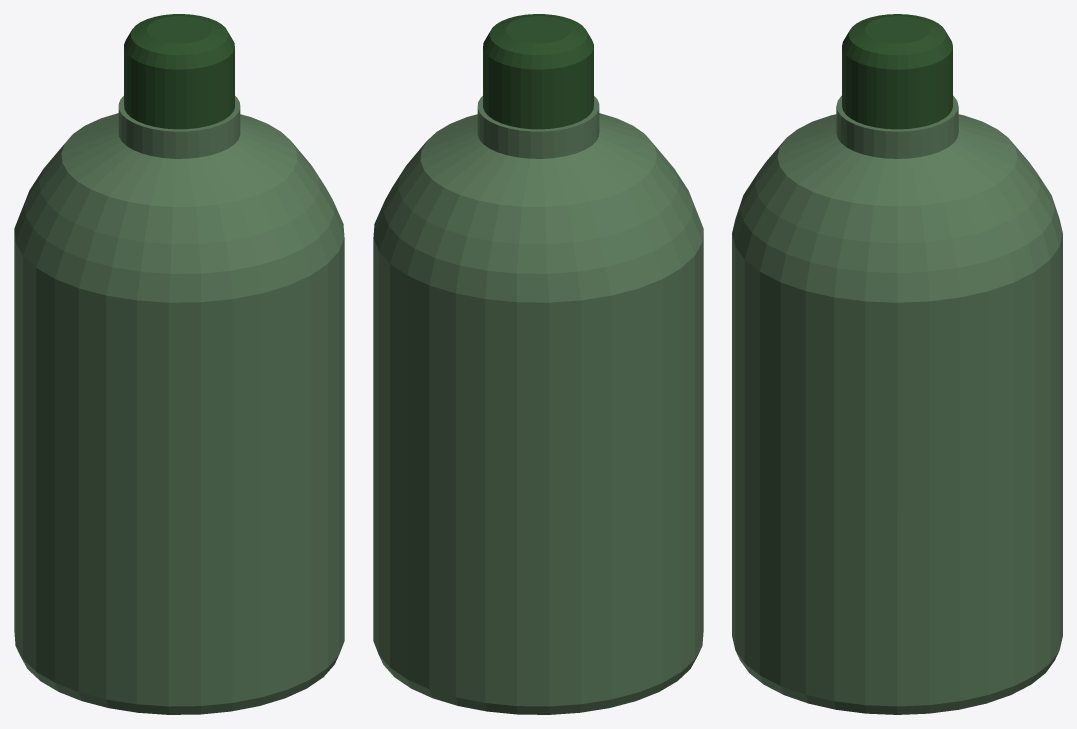
File: shampo 1.fbx
3 renders of one model, left to right at view 1: azimuth 30°, elevation 25°; view 2: azimuth 150°, elevation 25°; view 3: azimuth 270°, elevation 25°, orthographic.
Visible parts, largest first — view 1: Cylinder, Cylinder.001; view 2: Cylinder, Cylinder.001; view 3: Cylinder, Cylinder.001.
Boxes of the visible parts, bbox=[...] form: Cylinder: bbox=[14, 96, 344, 714]; Cylinder.001: bbox=[124, 14, 234, 129]; Cylinder: bbox=[373, 96, 703, 714]; Cylinder.001: bbox=[483, 14, 593, 129]; Cylinder: bbox=[732, 95, 1062, 714]; Cylinder.001: bbox=[842, 14, 952, 129].
Bounding box in the file's own units: 200 × 415 × 200.
